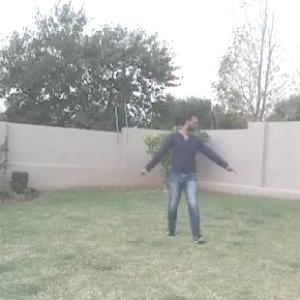land: (138, 98, 243, 243)
